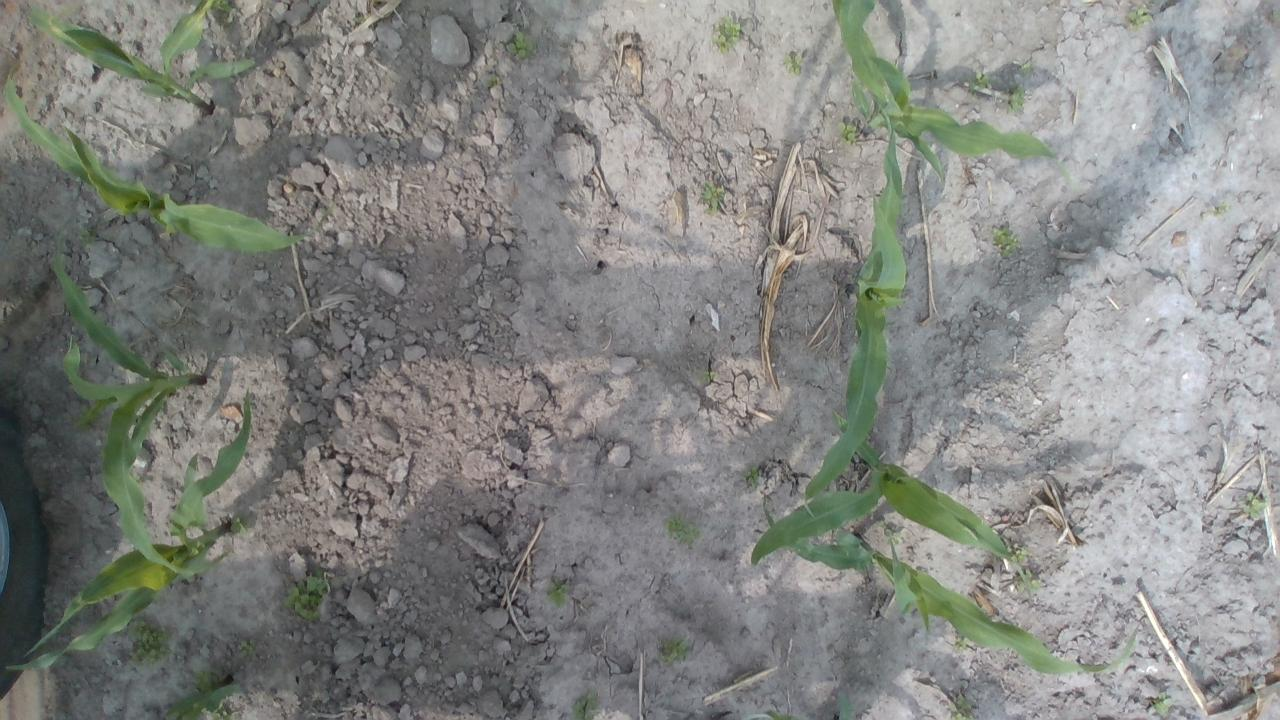Maize: (4, 385, 258, 677), (754, 496, 1140, 676), (51, 231, 220, 586), (3, 74, 324, 253), (828, 1, 1077, 194), (802, 123, 916, 519), (750, 411, 1020, 570), (25, 1, 259, 118)
Weeds: (120, 612, 174, 670), (284, 574, 330, 624), (1006, 546, 1044, 594), (661, 633, 692, 665), (712, 19, 744, 50), (567, 692, 600, 719), (879, 517, 906, 546), (506, 32, 532, 61), (663, 518, 696, 540), (701, 182, 726, 211), (194, 668, 222, 692), (1006, 87, 1029, 116), (834, 116, 860, 140), (1245, 496, 1269, 521), (238, 638, 264, 661), (1128, 7, 1156, 28), (970, 72, 992, 98), (549, 580, 571, 606), (1148, 693, 1172, 716), (997, 231, 1020, 254), (954, 693, 974, 716), (786, 55, 805, 73), (742, 472, 759, 492), (954, 630, 969, 649), (1016, 62, 1033, 77), (1210, 205, 1230, 215), (1273, 2, 1280, 30), (704, 372, 718, 384)
